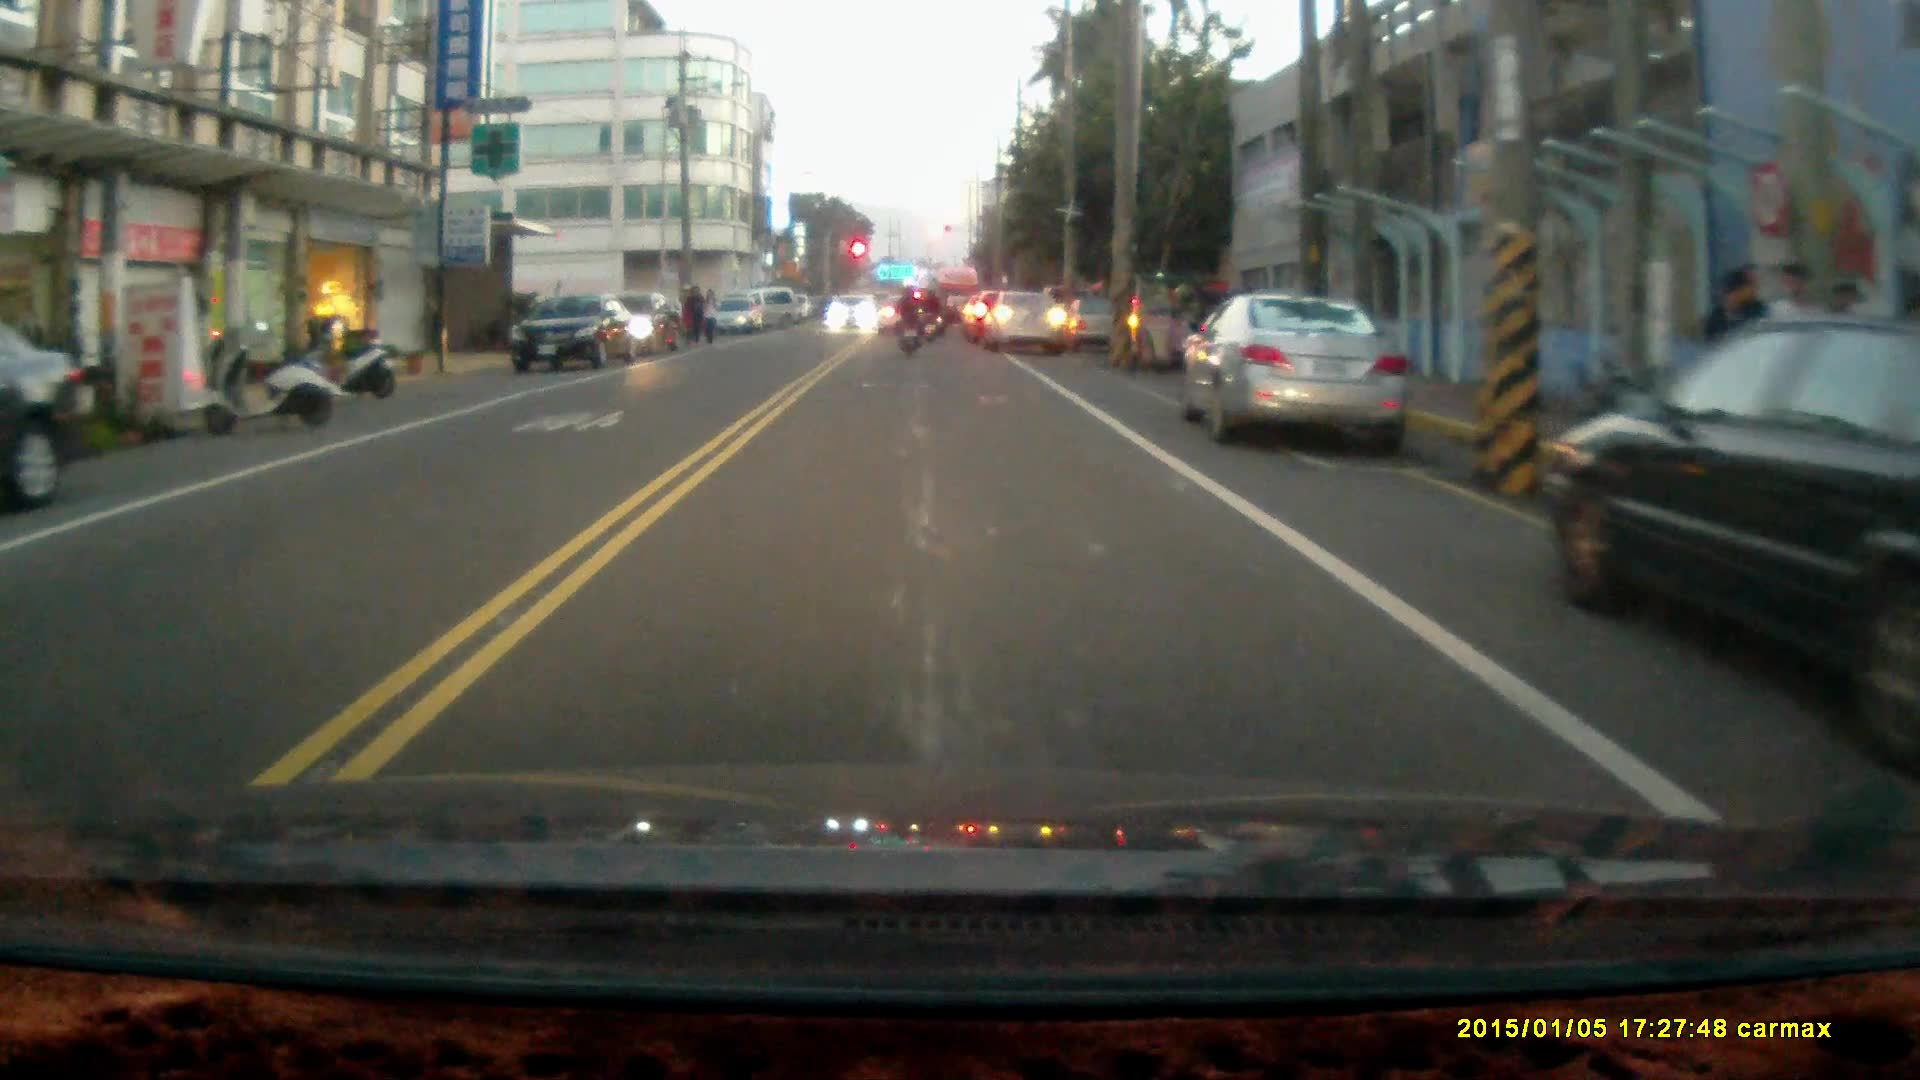pedestrian: (1699, 268, 1771, 457), (680, 284, 703, 350), (698, 288, 719, 348)
rider: (891, 282, 923, 358), (914, 284, 943, 344)
vehicle: (1548, 316, 1920, 707), (1178, 297, 1409, 449), (1, 315, 106, 513), (506, 295, 641, 381), (980, 289, 1065, 354), (823, 294, 878, 339)
